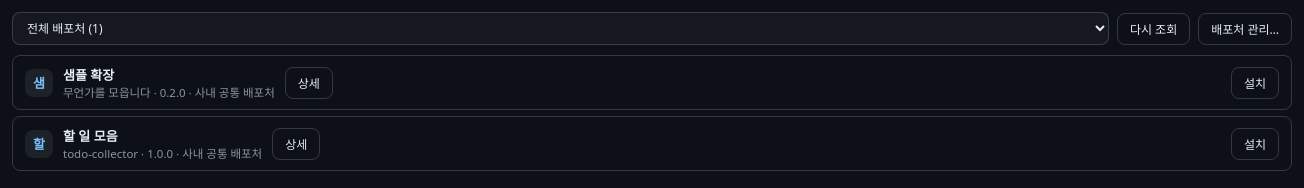
it: 받는 동안 › 그 줄만 잠기고 다른 줄은 그대로 눌린다
The image size is (1304, 188).
Click the button "설치" in the row of "샘플 확장": [1255, 82] box [1231, 66, 1279, 98]
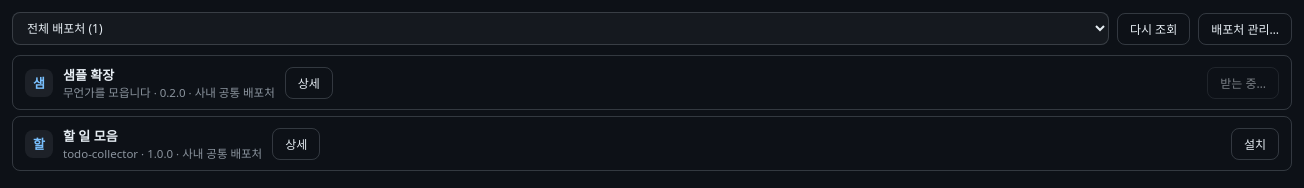
Expected: the button "설치" is enabled, [1231, 128, 1279, 160]
Now the button "받는 중…" is disabled, box [1207, 66, 1279, 98]
